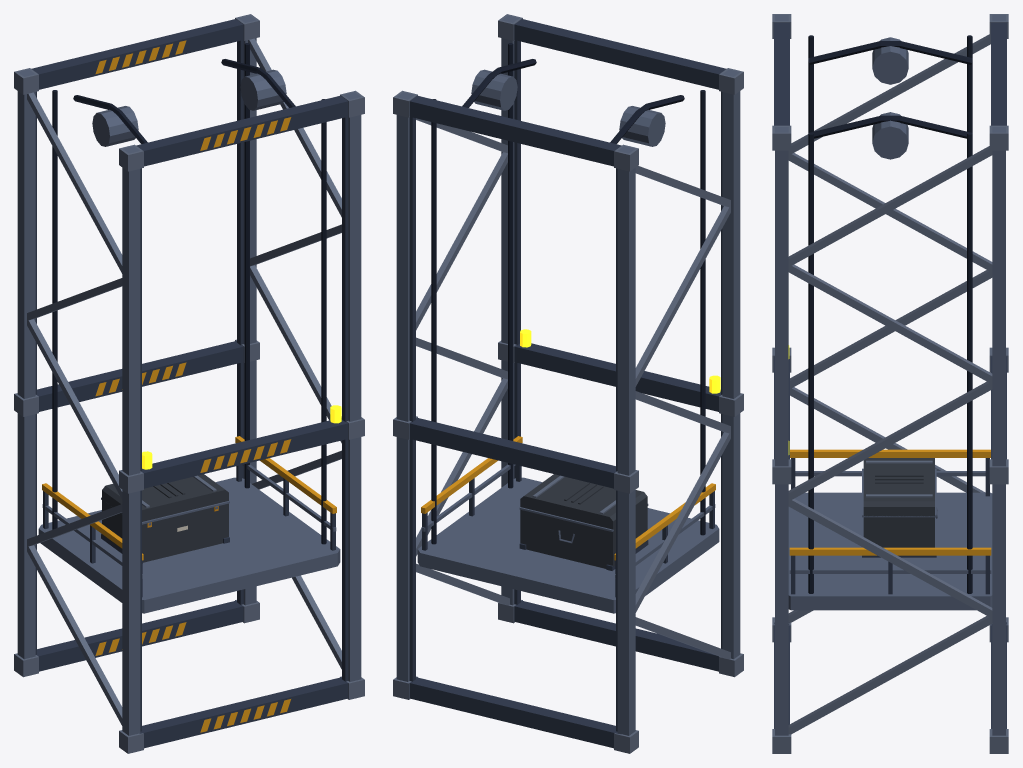
File: lab_freight_elevator.glb
3 views of the same model, side by side, from view 1: azimuth 30°, elevation 25°; view 2: azimuth 150°, elevation 25°; view 3: azimuth 270°, elevation 25° (orthographic). The views are drawn at different scales.
Parts seen in each view (by area): view 1: car_deck, corner_shoe, lid_runner, hoist_line, flight_shell, car_guard; view 2: car_deck, corner_shoe, lid_runner, hoist_line, flight_shell, car_guard; view 3: car_deck, lid_runner, hoist_line, flight_shell, corner_shoe, car_guard.
Part boxes in pixels (left/top/right/bottom): car_deck: left=17, top=15, right=361, bottom=735; corner_shoe: left=31, top=19, right=348, bottom=748; lid_runner: left=14, top=14, right=364, bottom=753; hoist_line: left=52, top=43, right=326, bottom=544; flight_shell: left=102, top=474, right=228, bottom=562; car_guard: left=42, top=40, right=336, bottom=732; car_deck: left=396, top=15, right=740, bottom=735; corner_shoe: left=409, top=19, right=726, bottom=748; lid_runner: left=393, top=14, right=743, bottom=753; hoist_line: left=431, top=43, right=705, bottom=544; flight_shell: left=520, top=474, right=647, bottom=568; car_guard: left=421, top=436, right=715, bottom=560; car_deck: left=775, top=15, right=1005, bottom=735; lid_runner: left=772, top=14, right=1008, bottom=753; hoist_line: left=808, top=35, right=972, bottom=593; flight_shell: left=863, top=458, right=934, bottom=547; corner_shoe: left=774, top=22, right=1006, bottom=728; car_guard: left=789, top=449, right=991, bottom=555.
Size of the model in its own units: 4.8 by 11.6 by 4.
